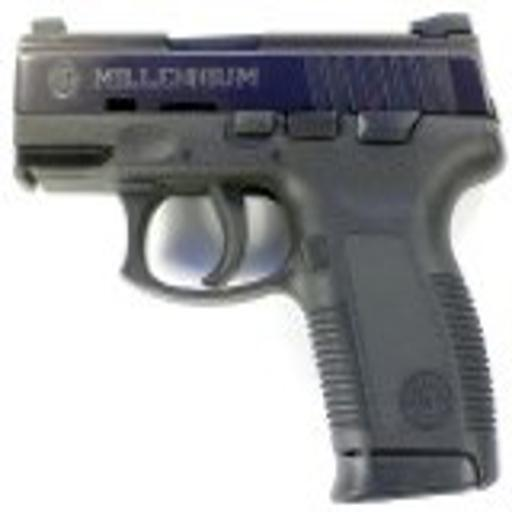Handgun: (5, 16, 507, 506)
